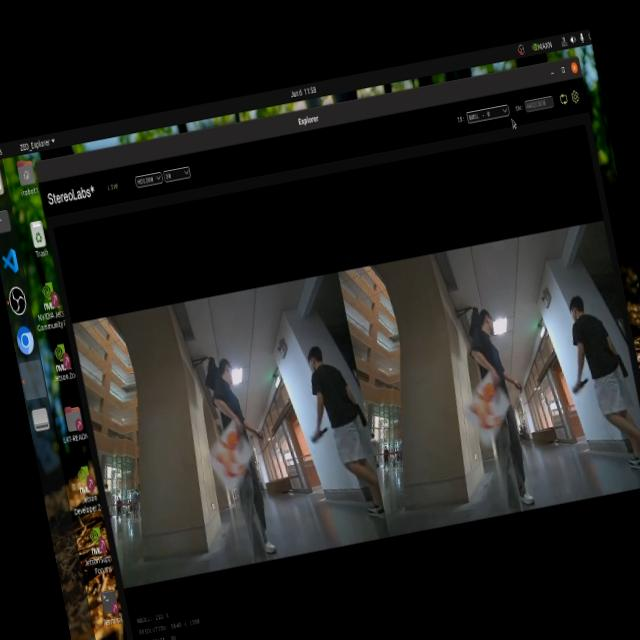red: (202, 424, 256, 484), (467, 374, 518, 436)
